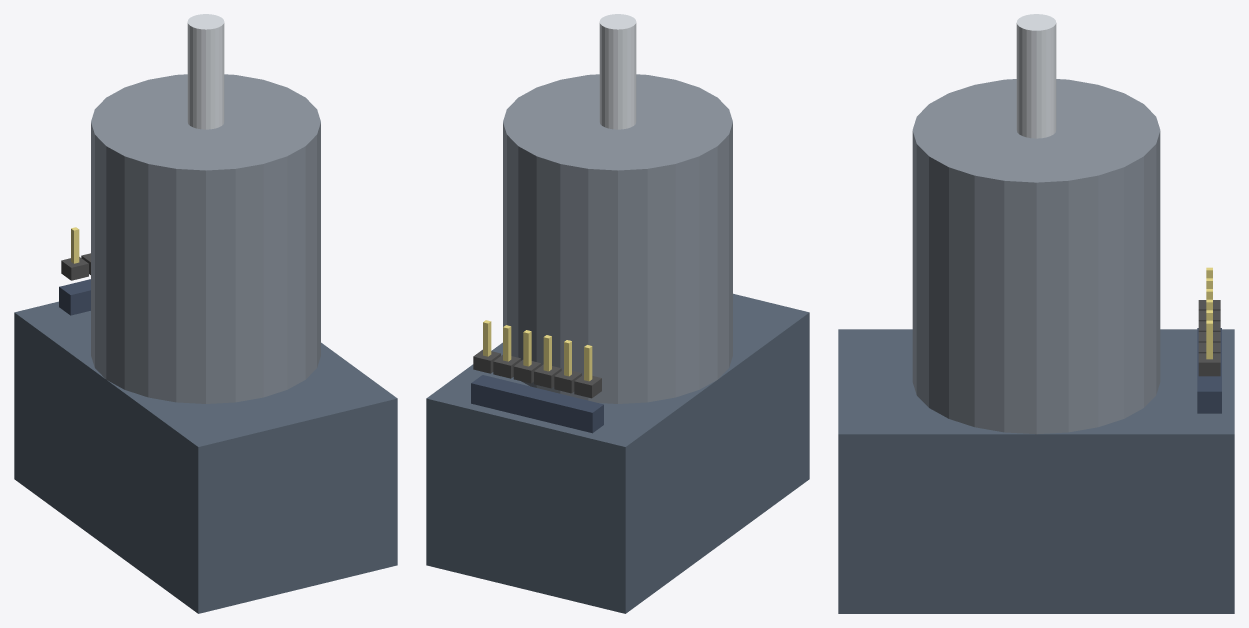
Rendered from stepper-28byj48-uln2003.glb.
3 renders of one model, left to right at view 1: azimuth 30°, elevation 25°; view 2: azimuth 150°, elevation 25°; view 3: azimuth 270°, elevation 25°, orthographic. The views are drawn at different scales.
Parts seen in each view (by area): view 1: stepper-28byj48-uln2003_mesh; view 2: stepper-28byj48-uln2003_mesh; view 3: stepper-28byj48-uln2003_mesh.
Part boxes in pixels (x1,y1,x2,y2): stepper-28byj48-uln2003_mesh: [14, 14, 397, 613]; stepper-28byj48-uln2003_mesh: [426, 14, 809, 613]; stepper-28byj48-uln2003_mesh: [838, 14, 1234, 613].
Bounding box in the file's own units: 25 × 60 × 40.
